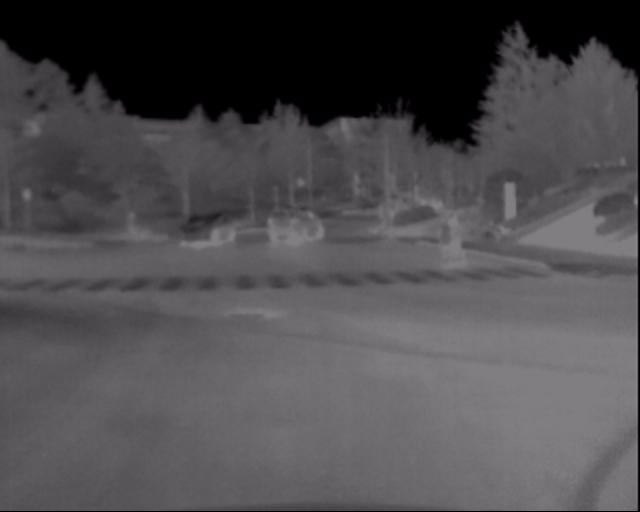person: (425, 203, 463, 264), (118, 211, 138, 250)
